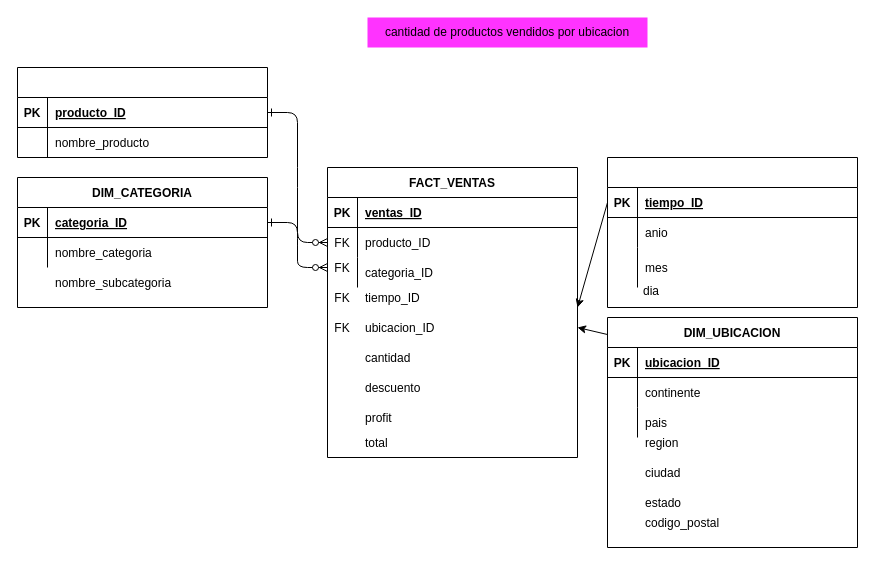
This 875x565 diagram has some shape labels left out. The box of each missing label's shape, as (x1, y1, x2, y2) in pixels:
DIM_PRODUCTO: (16, 66, 268, 158)
DIM_TIEMPO: (606, 156, 858, 308)
